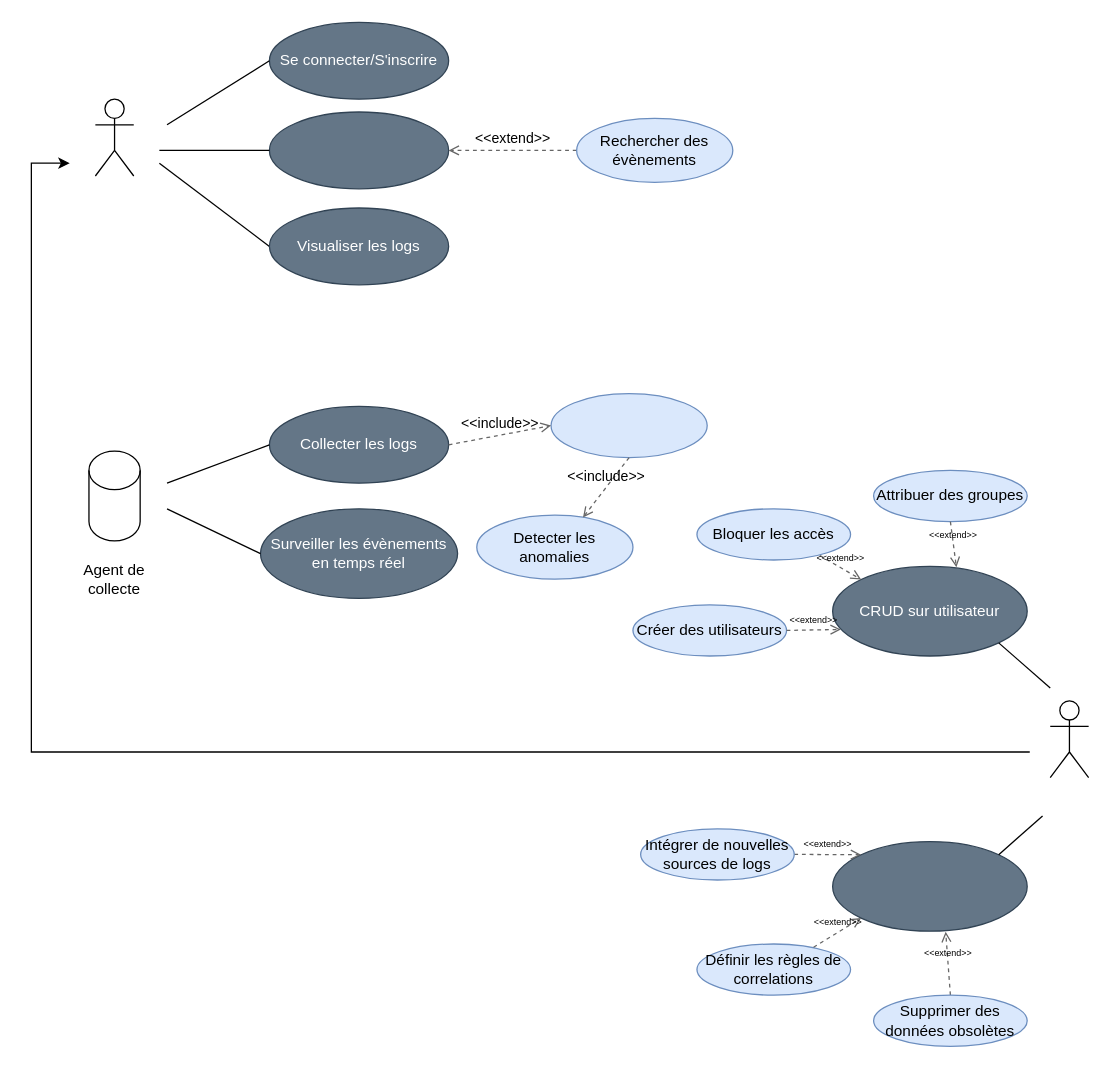
This 1114x1069 diagram has some shape labels left out. Each missing label, with the centre of its shape:
Admin: [1069,739]
Analyser les évènements: [628,425]
Consulter le tableau de bord: [358,150]
CRUD sur le SIEM: [929,885]
Utilisateur: [114,137]
